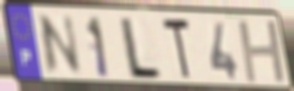1: (84, 15, 113, 80)
4: (208, 20, 240, 82)
H: (235, 18, 289, 86)
L: (119, 16, 163, 82)
N: (37, 13, 85, 79)
T: (160, 16, 193, 83)
